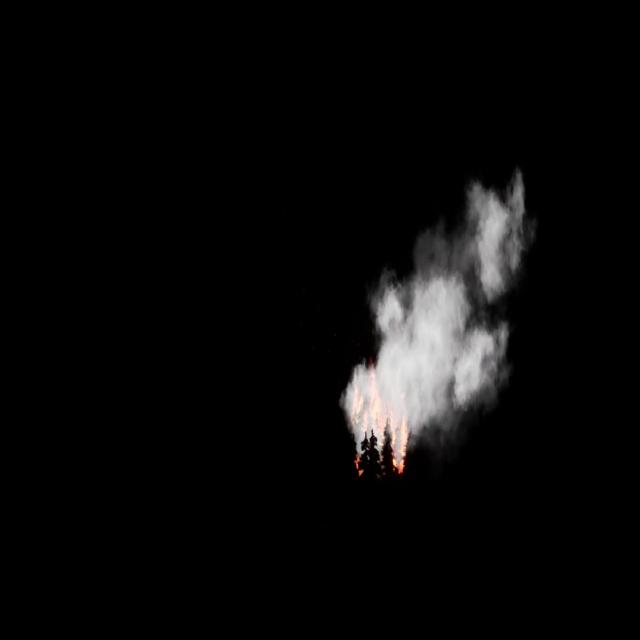fire: (346, 368, 412, 478)
smoke: (342, 164, 528, 452)
